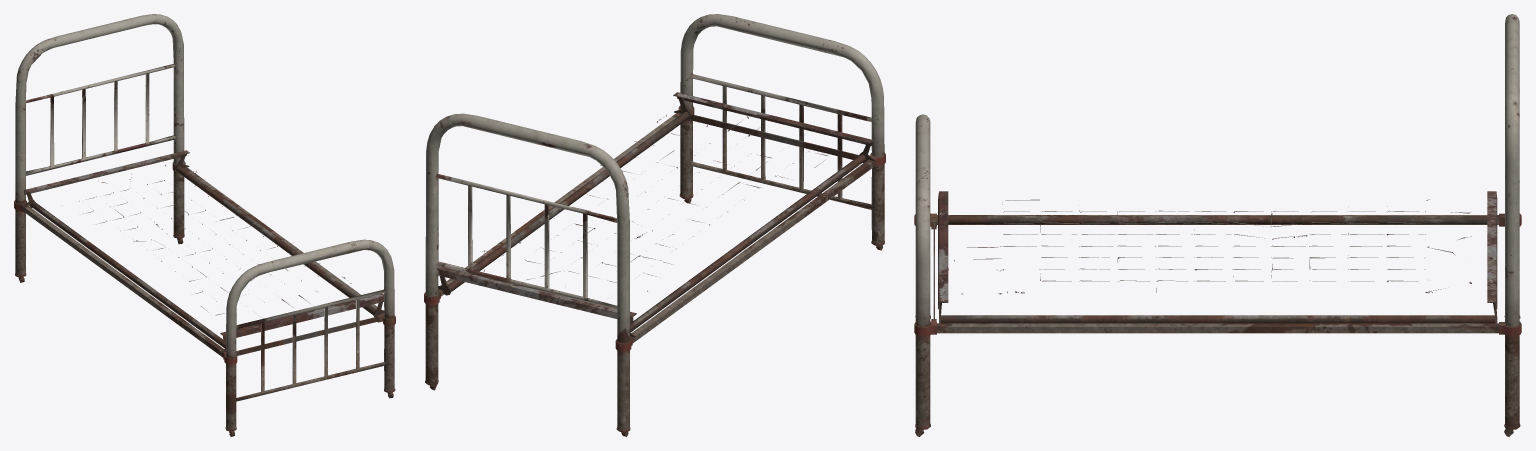
File: old_bed_frame.glb
The picture shows the model from 3 angles, left to right: view 1: azimuth 30°, elevation 25°; view 2: azimuth 150°, elevation 25°; view 3: azimuth 270°, elevation 25°; orthographic projection. The views are drawn at different scales.
Visible parts, largest first — view 1: old_bed_frame; view 2: old_bed_frame; view 3: old_bed_frame.
Part boxes in pixels (<box>): old_bed_frame: <box>14,14,395,436</box>; old_bed_frame: <box>424,14,885,436</box>; old_bed_frame: <box>914,14,1521,436</box>.
Size of the model in its own units: 0.9047 by 1.2 by 2.
Materials: 1 (1 with a texture image).
